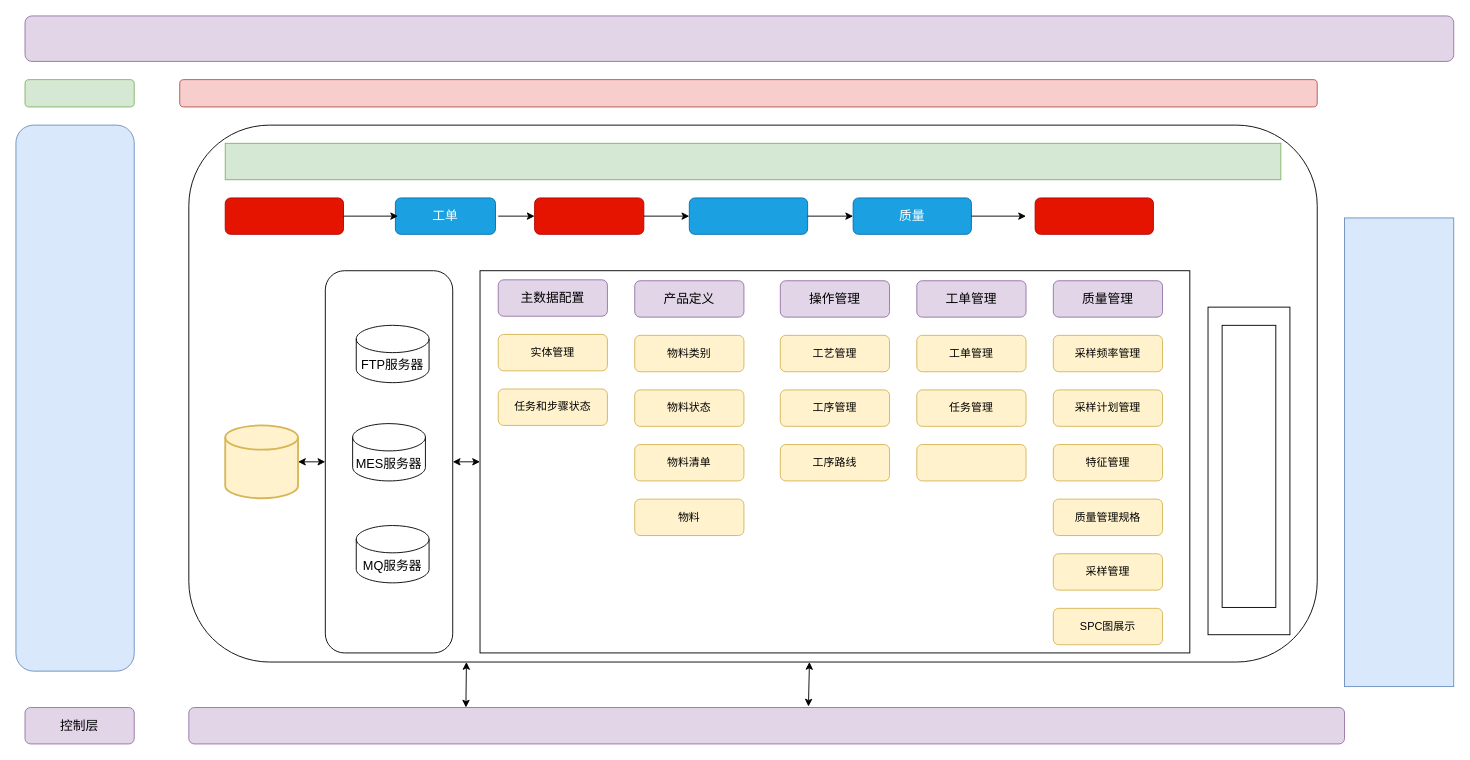
The diagram is 1470 pixels wide and 760 high, and some of its shapes have lost their labels. Each missing label, with the centre of its shape:
API: point (1248, 465)
ERP系统: point (748, 93)
MES数据库: point (261, 461)
MES系统: point (752, 161)
业务架构图: point (739, 38)
产量管理: point (971, 462)
入 库: point (1093, 215)
打印机、扫码枪、PC、手机、平板: point (766, 725)
执行层: point (74, 397)
排程: point (589, 215)
生产: point (748, 215)
计划: point (284, 215)
计划层: point (79, 93)
设备 自动 采集 系统: point (1399, 452)
